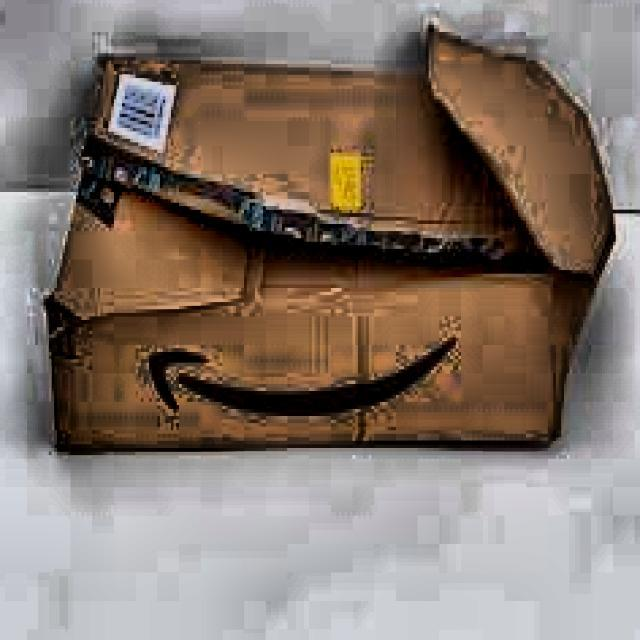cardboard: (44, 18, 618, 452)
